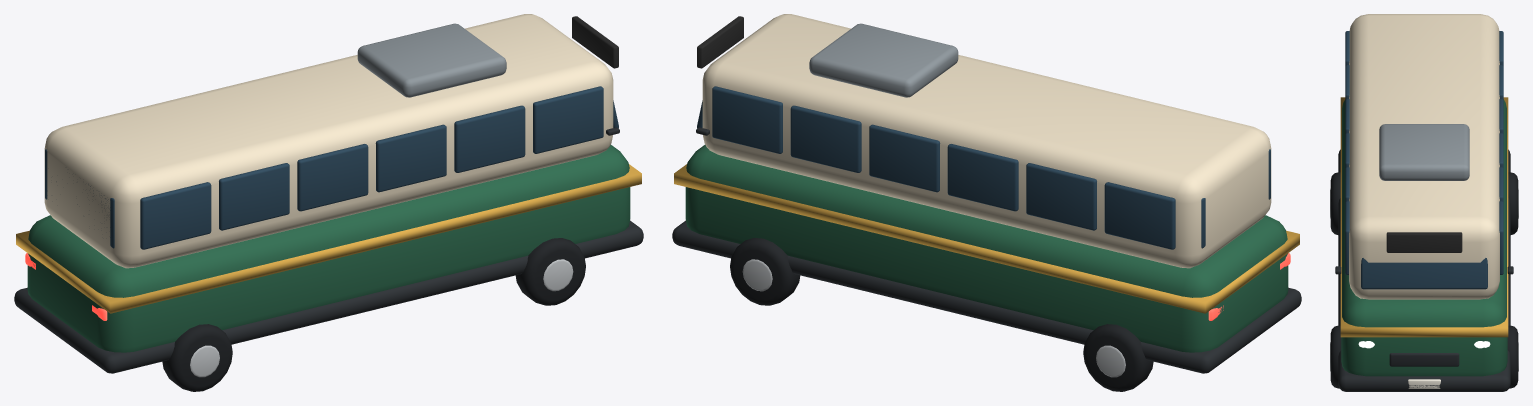
File: car_bus.glb
3 renders of one model, left to right at view 1: azimuth 30°, elevation 25°; view 2: azimuth 150°, elevation 25°; view 3: azimuth 270°, elevation 25°, orthographic. The views are drawn at different scales.
Parts seen in each view (by area): view 1: car_bus; view 2: car_bus; view 3: car_bus.
Boxes of the visible parts, x1=… form: car_bus: x1=14, y1=14, x2=643, y2=391; car_bus: x1=672, y1=14, x2=1301, y2=391; car_bus: x1=1330, y1=14, x2=1518, y2=391.
Size of the model in its own units: 3.66 by 1.53 by 1.25.
4 materials, 4 textured.
